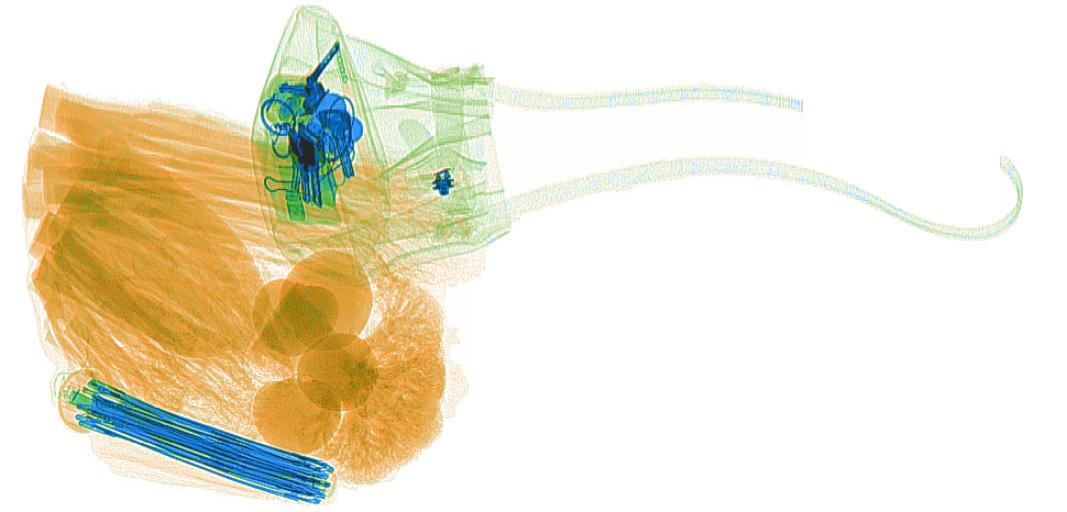USBFlashDisk: (274, 162, 306, 223)
